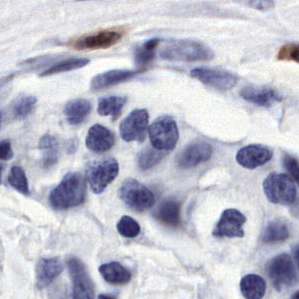Lymphocyte: (77, 30, 128, 50)
